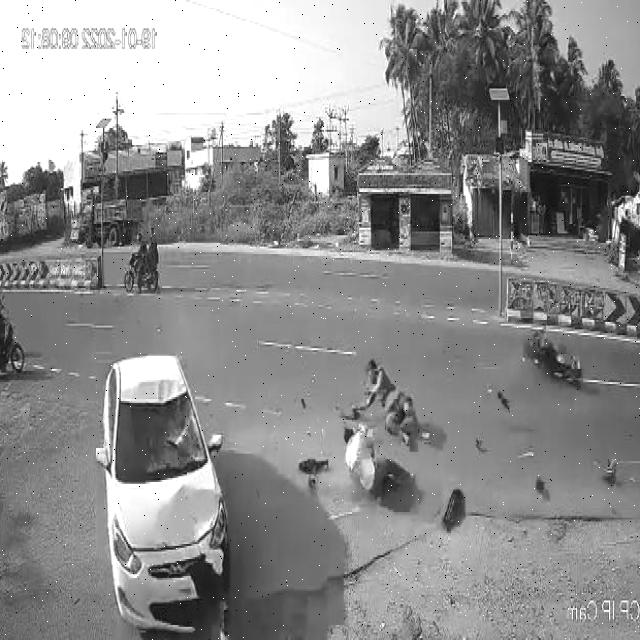accident: (91, 348, 241, 640), (513, 313, 594, 402)
